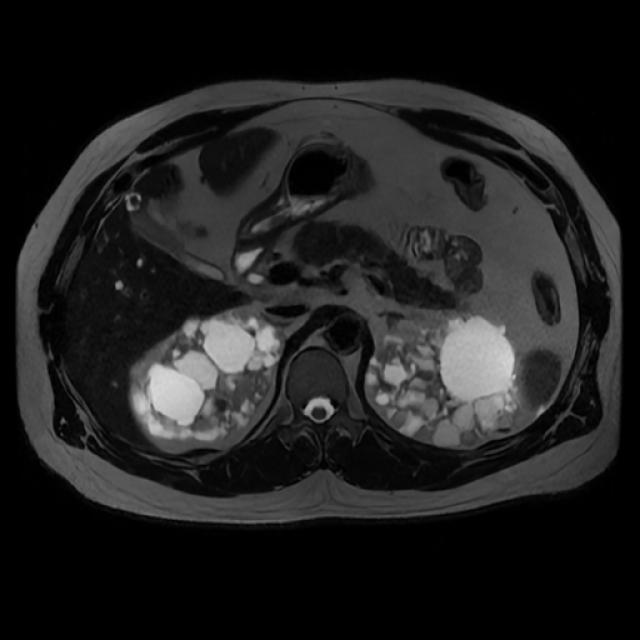sag: (129, 309, 286, 442)
sol: (365, 316, 520, 449)
